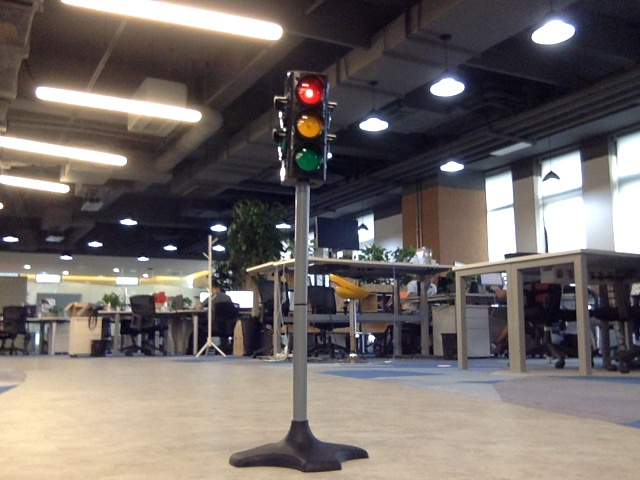red: (287, 74, 323, 171)
